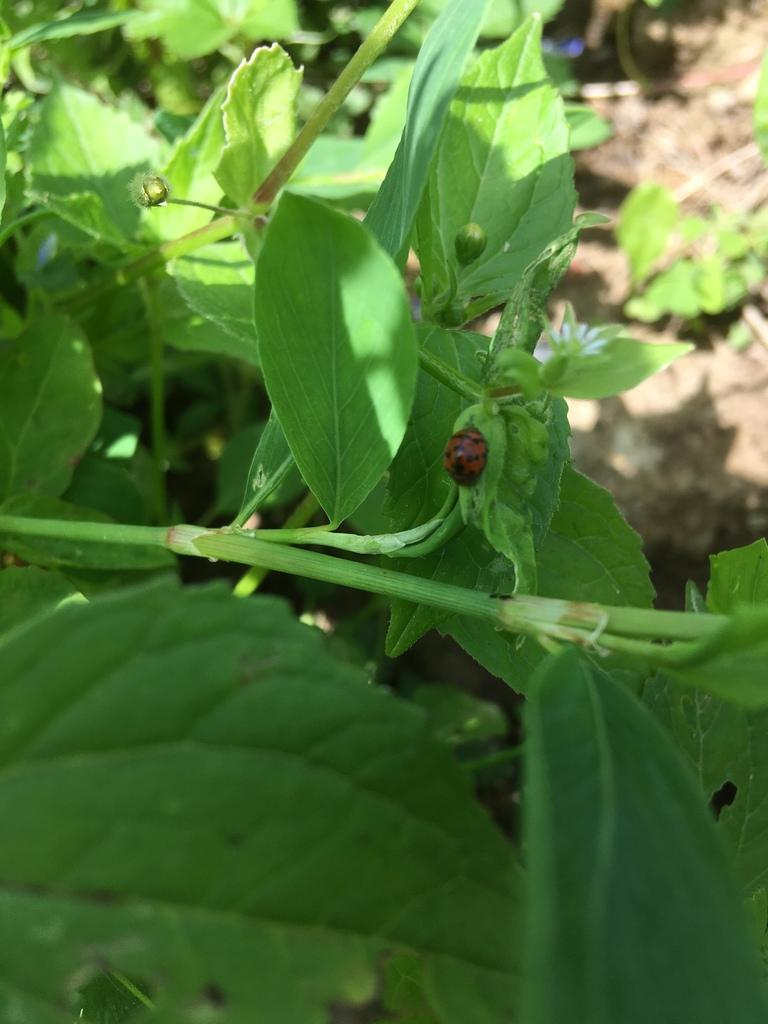ladybug: (441, 421, 496, 494)
